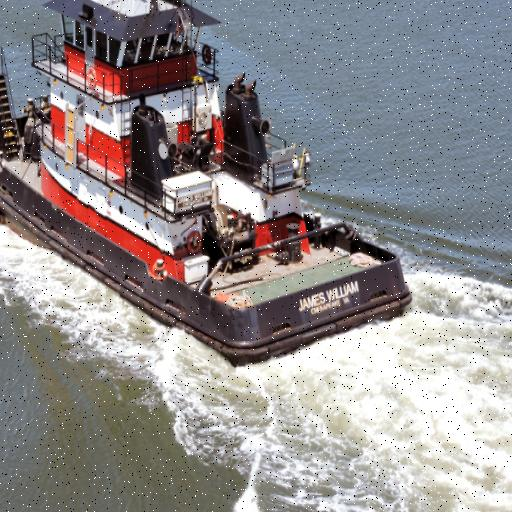tugboat: (1, 1, 419, 370)
